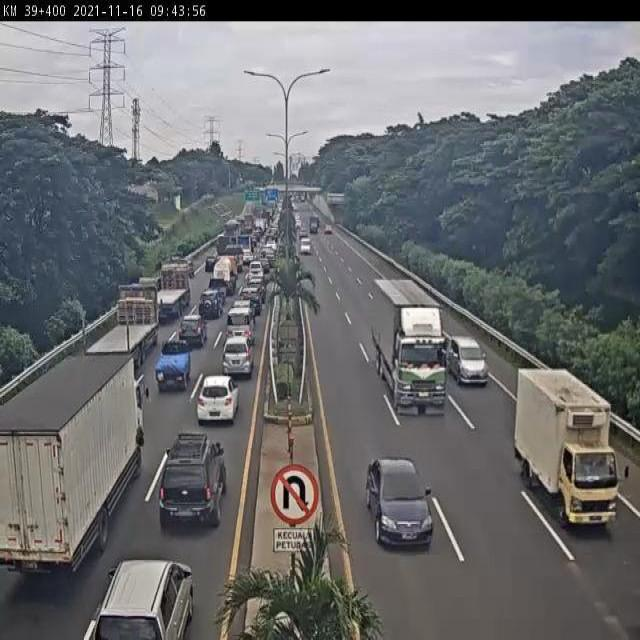car: (93, 558, 193, 640), (159, 433, 226, 532), (367, 459, 436, 553), (195, 376, 241, 429), (155, 341, 194, 395), (449, 335, 489, 384), (222, 337, 255, 383), (228, 306, 257, 346), (177, 319, 205, 352), (199, 291, 222, 321)
small truck: (511, 367, 632, 536)
truck-l-: (373, 279, 453, 417), (80, 284, 159, 373), (147, 264, 193, 324)
truck-m-: (1, 351, 147, 577)
